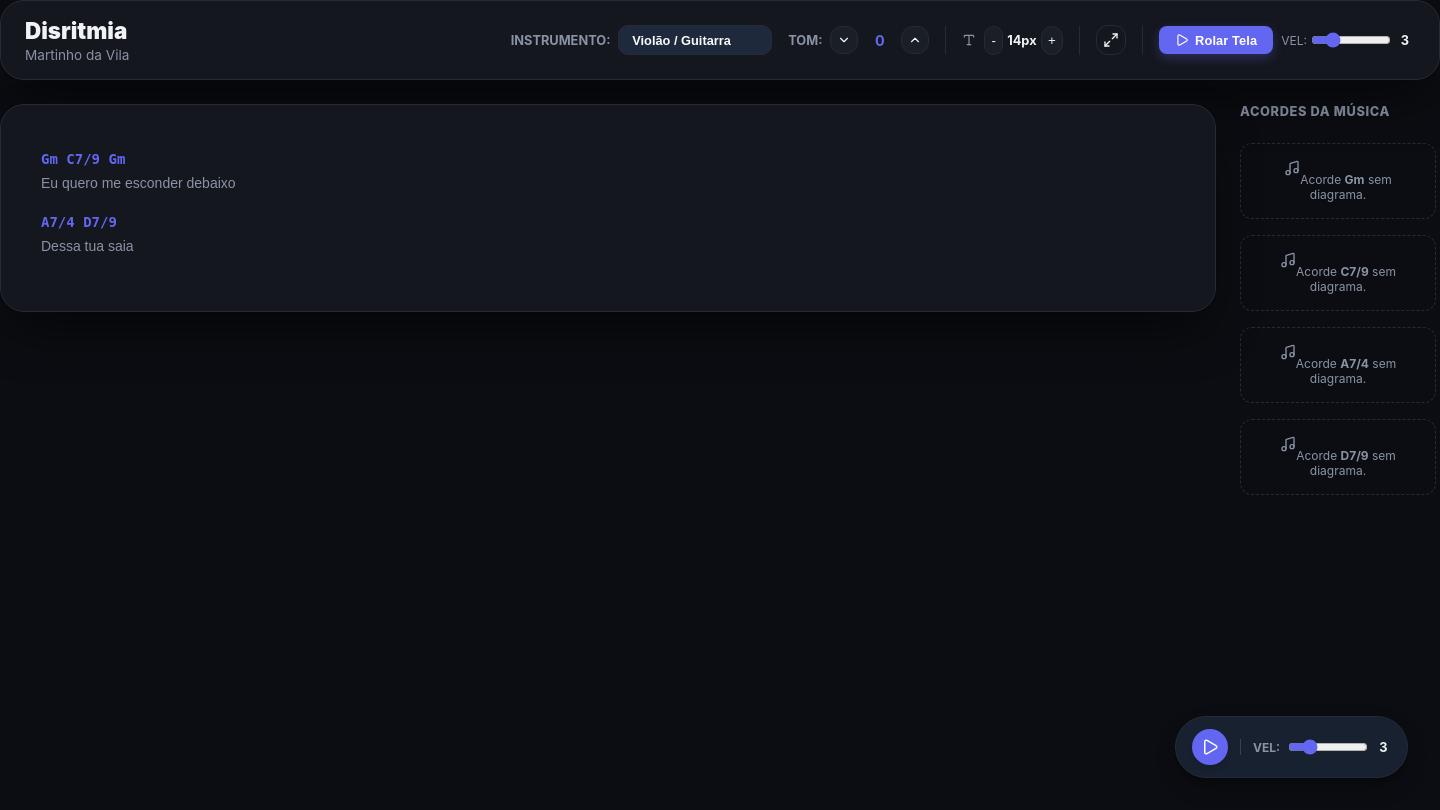
Test: CifraViewer Component › highlights and transposes slash extension chords like C7/9 and A7/4 correctly
The width and height of the screenshot is (1440, 810).
Expected: the 1st text "Gm" is shown, [41,151,58,167]
Expected: the 1st text "C7/9" is shown, [66,151,100,167]
Transpose +1 half tone
Click the button titled "Aumentar Meio Tom".
click(915, 40)  # box [901,26,929,54]
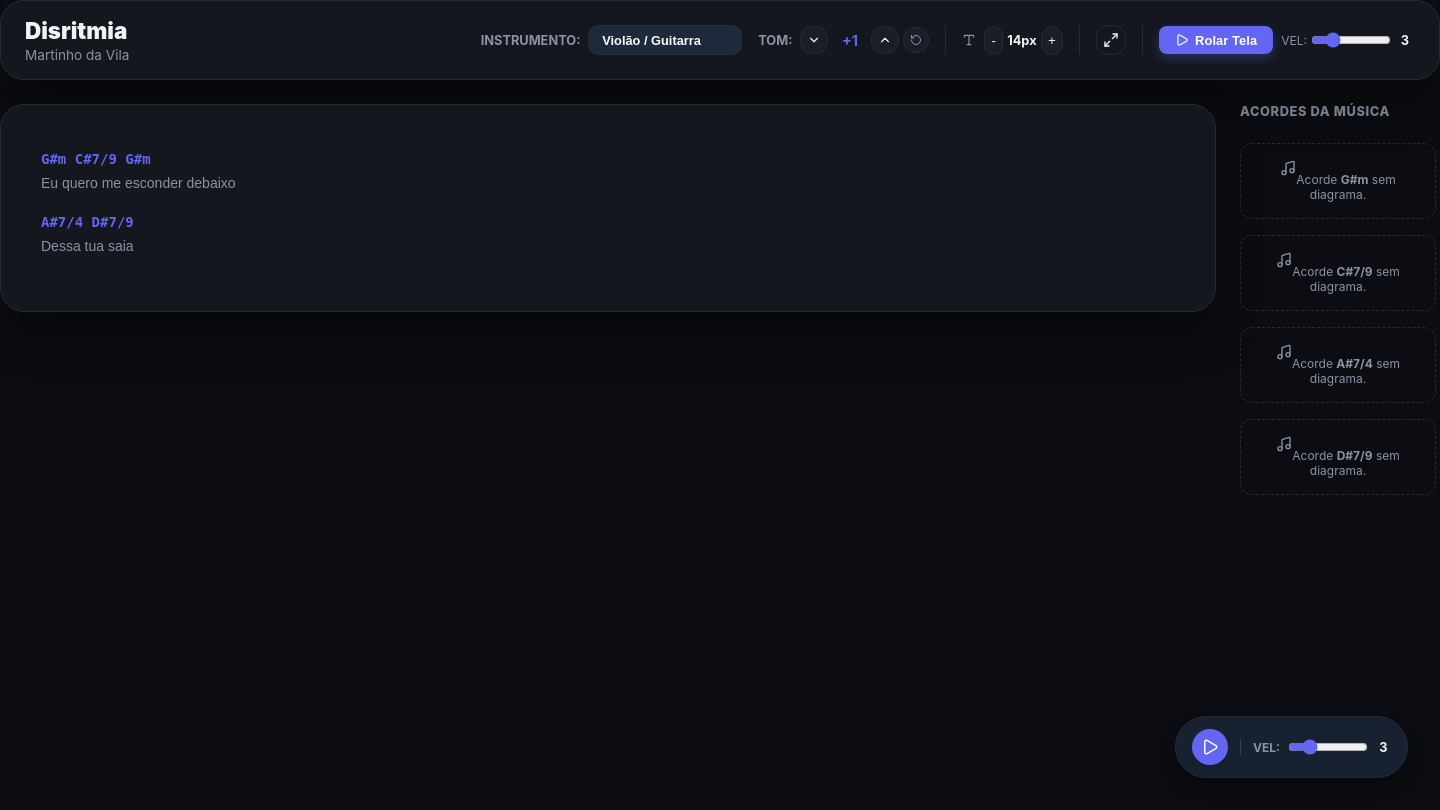
Result: the 1st text "G#m" is shown at [41,151,66,167]
Result: the 1st text "C#7/9" is shown at [75,151,117,167]
Result: the text "A#7/4" below "Eu quero me esconder debaixo" is shown at [41,214,83,230]
